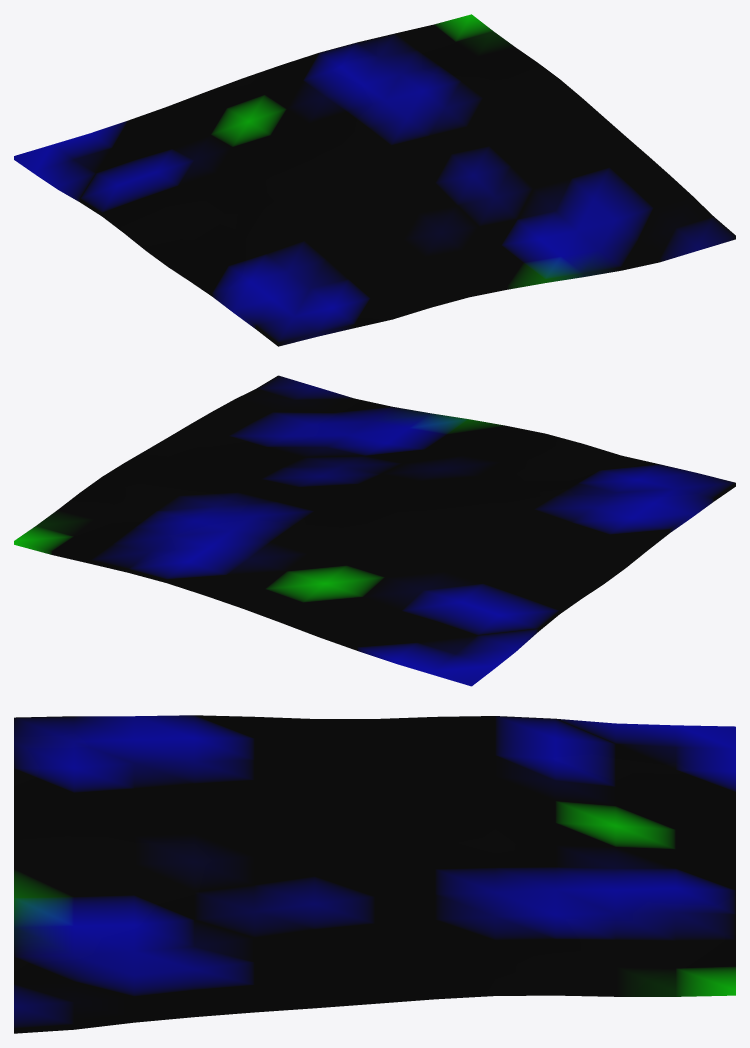
The model's file is coast_16_2.glb.
3 renders of one model, top to bottom at view 1: azimuth 30°, elevation 25°; view 2: azimuth 150°, elevation 25°; view 3: azimuth 270°, elevation 25°, orthographic. The views are drawn at different scales.
Visible parts, largest first — view 1: terrain; view 2: terrain; view 3: terrain.
Boxes of the visible parts, bbox=[...] form: terrain: bbox=[14, 14, 735, 346]; terrain: bbox=[14, 375, 735, 686]; terrain: bbox=[14, 715, 735, 1033].
Bounding box in the file's own units: 192 × 14.92 × 192.
